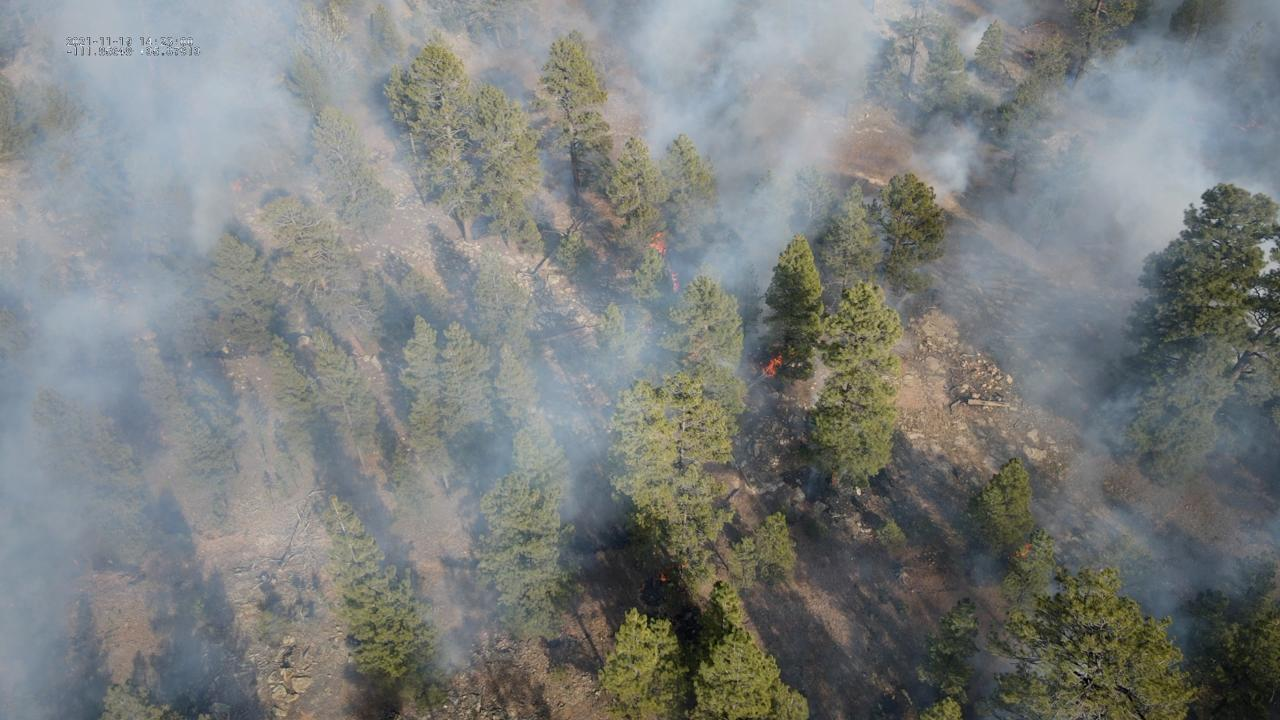fire: (646, 231, 680, 296), (758, 354, 783, 379), (1231, 118, 1265, 133), (228, 179, 243, 192), (1018, 544, 1029, 560), (656, 571, 666, 585), (786, 350, 796, 357), (637, 585, 645, 593)
smoke: (0, 0, 1280, 720)
